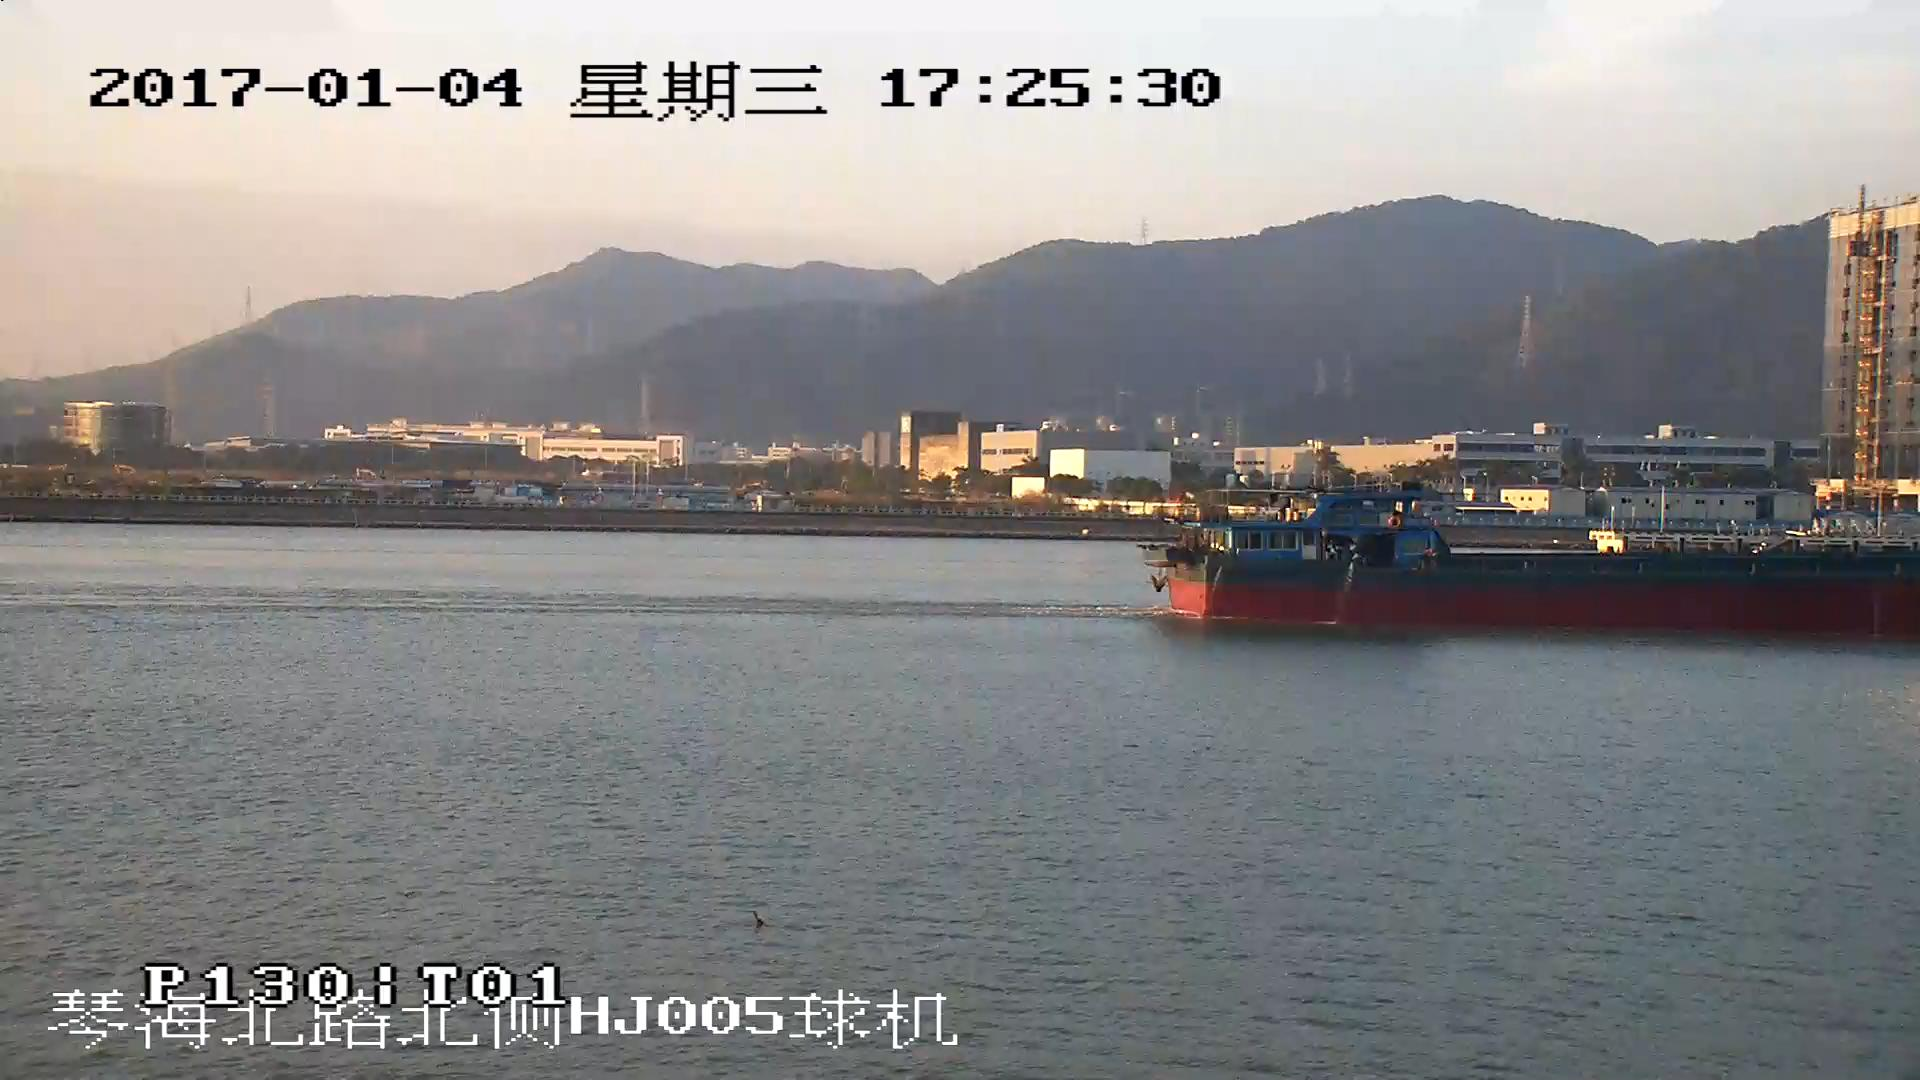general cargo ship: (1151, 492, 1920, 630)
